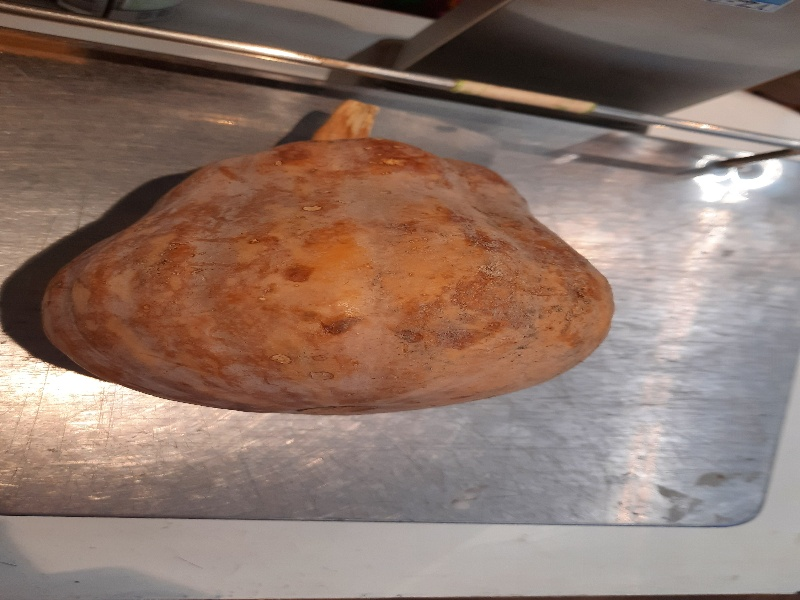vege: (35, 99, 618, 426)
